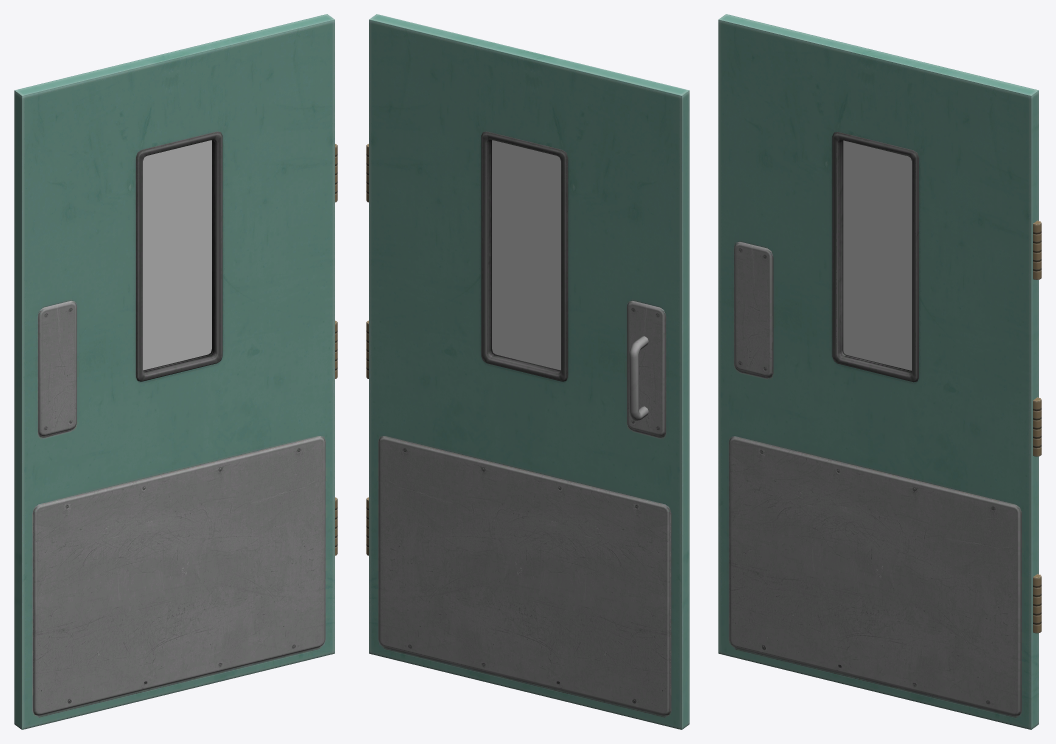
Rendered from swingdoor_hospital_right.dae.
3 renders of one model, left to right at view 1: azimuth 30°, elevation 25°; view 2: azimuth 150°, elevation 25°; view 3: azimuth 330°, elevation 25°, orthographic.
Parts seen in each view (by area): view 1: door_right, glass_right; view 2: door_right, glass_right; view 3: door_right, glass_right.
Boxes of the visible parts, <box> form: door_right: <box>14,14,337,729</box>; glass_right: <box>143,140,211,370</box>; door_right: <box>366,14,689,729</box>; glass_right: <box>492,140,560,370</box>; door_right: <box>718,14,1041,729</box>; glass_right: <box>843,140,911,370</box>.
Size of the model in its own units: 1.5 by 2.86 by 0.185.
